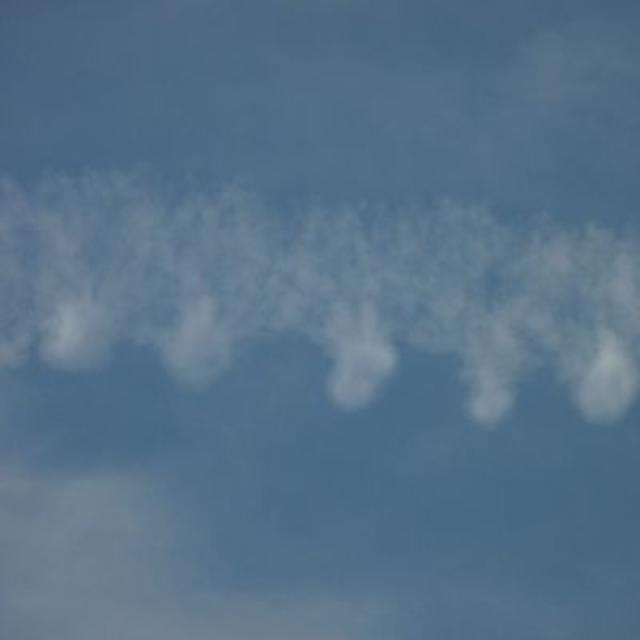Cc: (1, 115, 640, 479)
